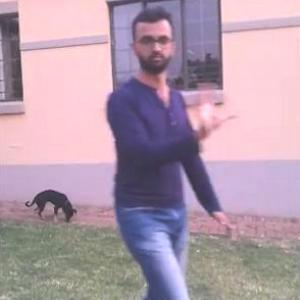follow_hand: (187, 80, 240, 136)
